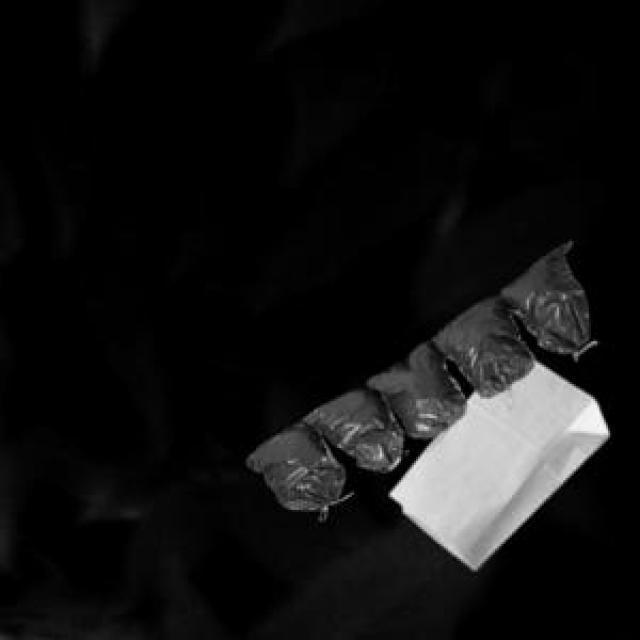miscellaneous trash: (243, 237, 585, 506)
paper: (386, 356, 604, 565)
